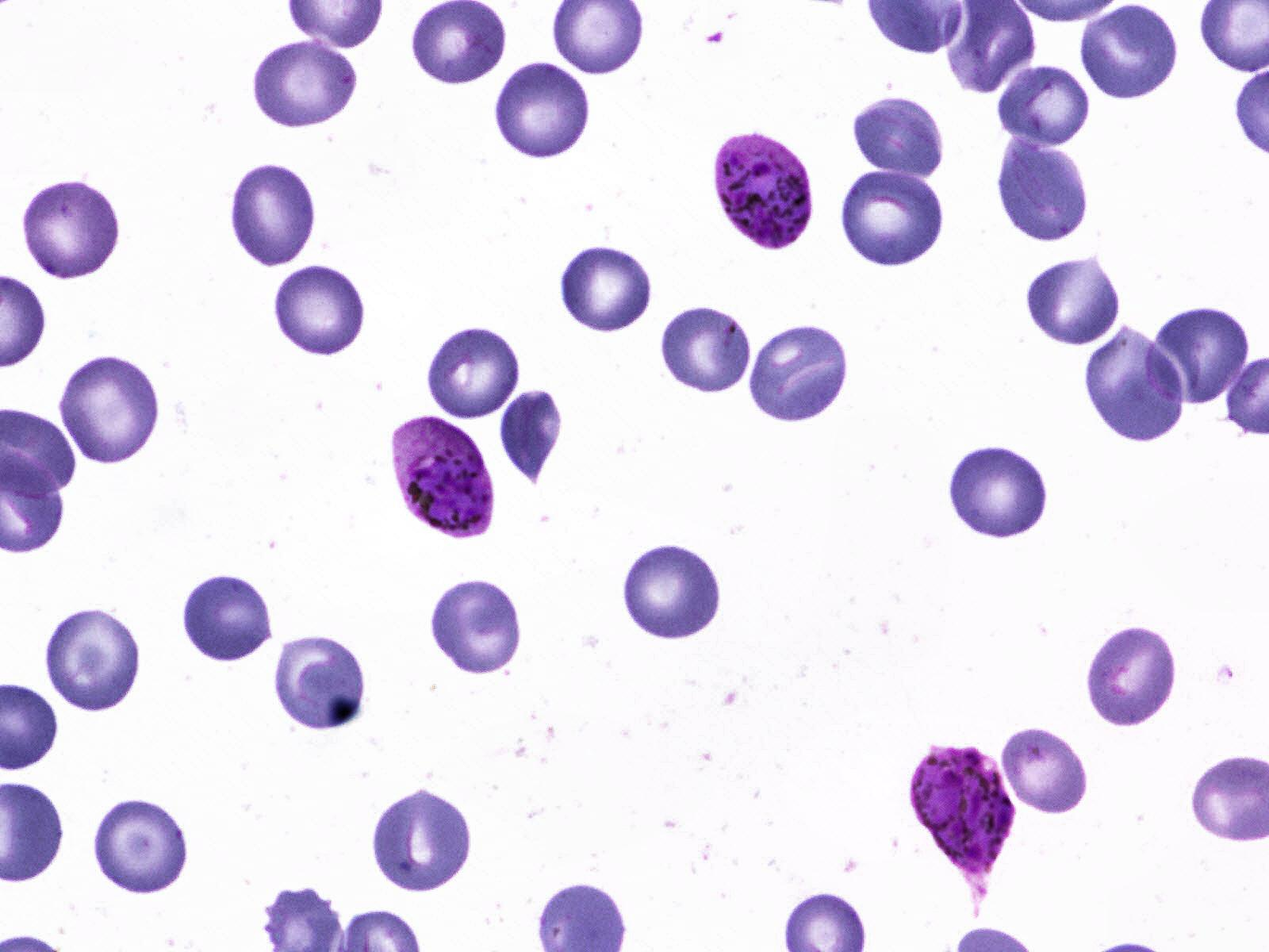Infected: (909, 745, 1012, 876), (393, 412, 494, 541), (709, 134, 814, 251)
Uninfected: (1083, 326, 1187, 443), (18, 175, 126, 286), (41, 606, 144, 716), (747, 323, 853, 428), (58, 355, 161, 463), (371, 789, 475, 894), (837, 169, 946, 269), (493, 59, 598, 161), (1078, 3, 1183, 104), (1148, 308, 1252, 409), (619, 543, 724, 641), (949, 442, 1054, 540), (997, 136, 1088, 243), (425, 322, 525, 419), (93, 800, 194, 896), (252, 36, 355, 129), (230, 163, 316, 268), (1025, 254, 1121, 347), (1086, 628, 1176, 727), (274, 637, 368, 730), (559, 244, 654, 335), (431, 579, 521, 674), (663, 303, 755, 395), (274, 267, 364, 361), (848, 96, 945, 183), (410, 0, 506, 86), (182, 577, 274, 665), (1002, 727, 1090, 816), (998, 65, 1090, 146), (497, 389, 568, 492)
